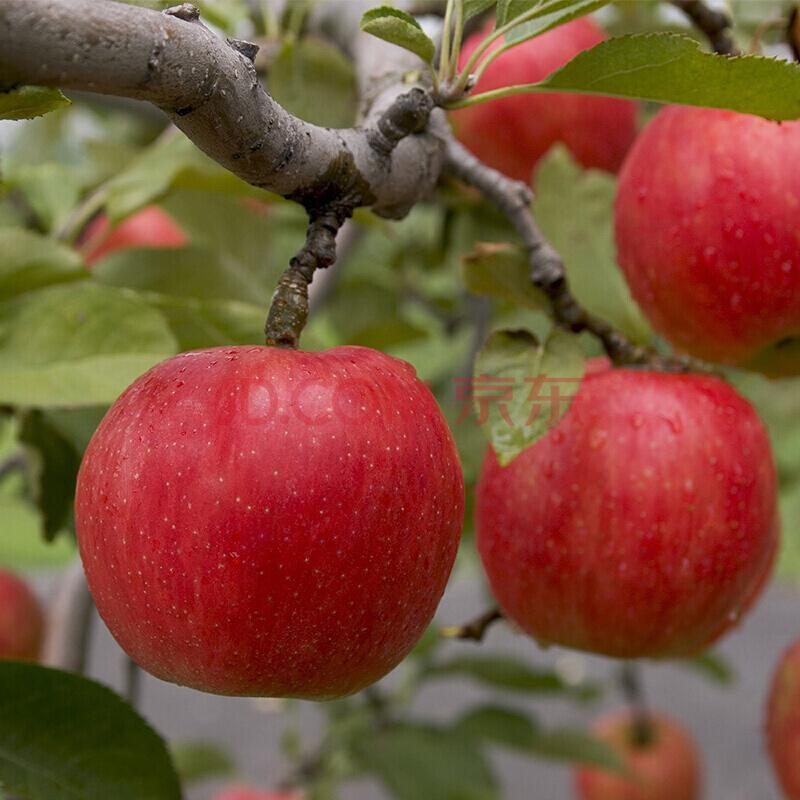apple: (77, 349, 468, 706), (466, 366, 781, 657)
